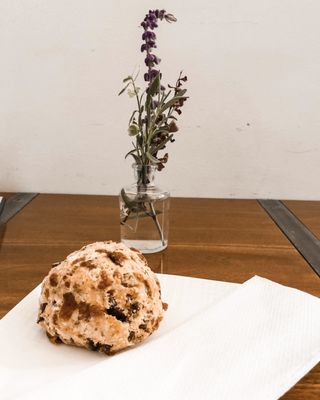sandwich: (256, 200, 320, 280)
